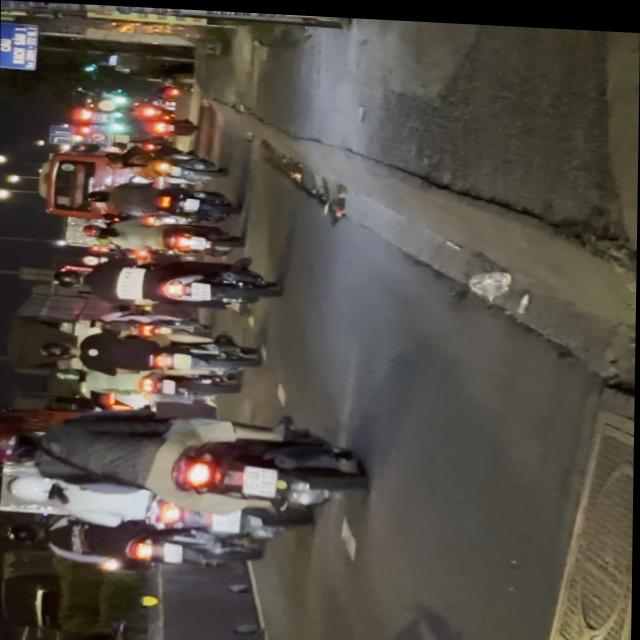helmet: (9, 474, 63, 505), (0, 433, 43, 467), (51, 268, 85, 288)
licenseplate: (0, 401, 363, 521), (0, 470, 328, 538), (49, 249, 282, 315), (0, 628, 457, 640)
nohelmet: (242, 465, 277, 495)
